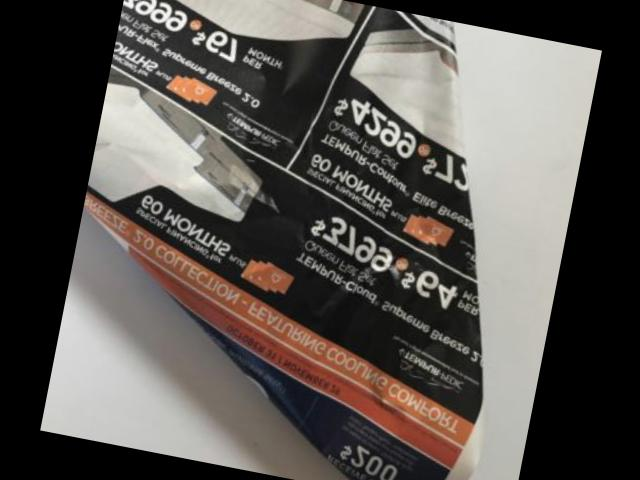cardboard paper: (83, 0, 479, 480)
